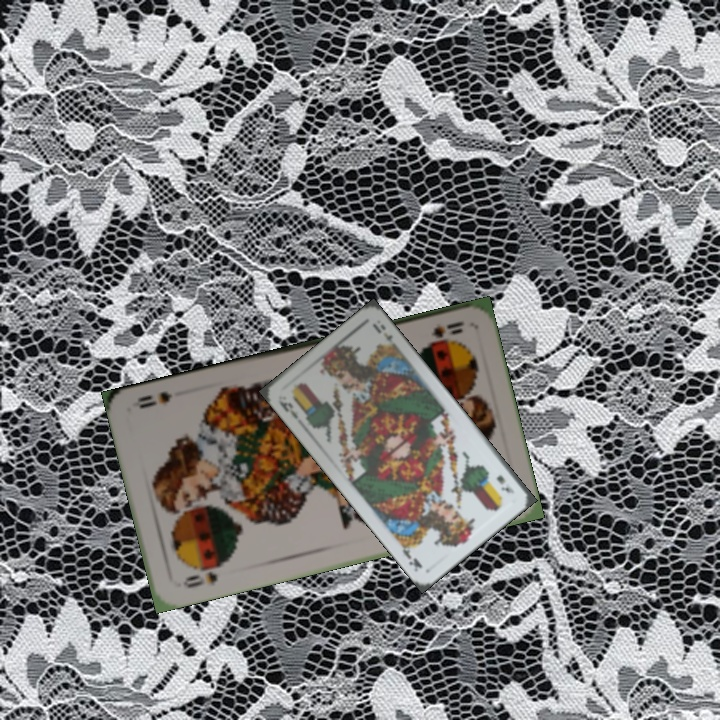EK: (275, 396, 301, 422), (492, 471, 517, 497)
SO: (179, 561, 226, 591), (423, 317, 467, 346)
